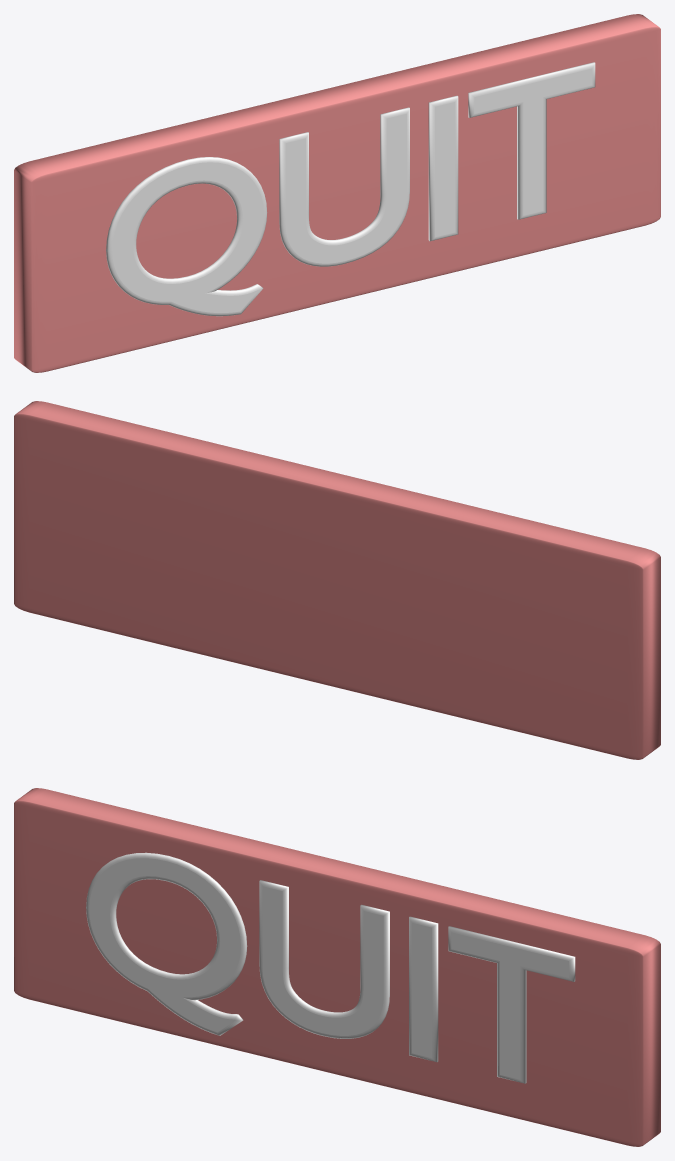
File: Button_Quit.fbx
3 views of the same model, one above another, from view 1: azimuth 30°, elevation 25°; view 2: azimuth 150°, elevation 25°; view 3: azimuth 330°, elevation 25° (orthographic).
Visible parts, largest first — view 1: Cube.001, Text.002; view 2: Cube.001; view 3: Cube.001, Text.002.
Boxes of the visible parts, left/top/right/bottom form: Cube.001: left=14, top=14, right=660, bottom=372; Text.002: left=106, top=62, right=595, bottom=316; Cube.001: left=14, top=401, right=660, bottom=759; Cube.001: left=14, top=788, right=660, bottom=1146; Text.002: left=86, top=852, right=575, bottom=1083.
Bounding box in the file's own units: 4 × 1.2 × 0.227.
